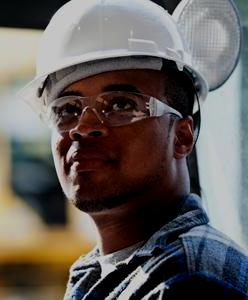helmet: (14, 6, 212, 117)
person: (11, 3, 232, 300)
